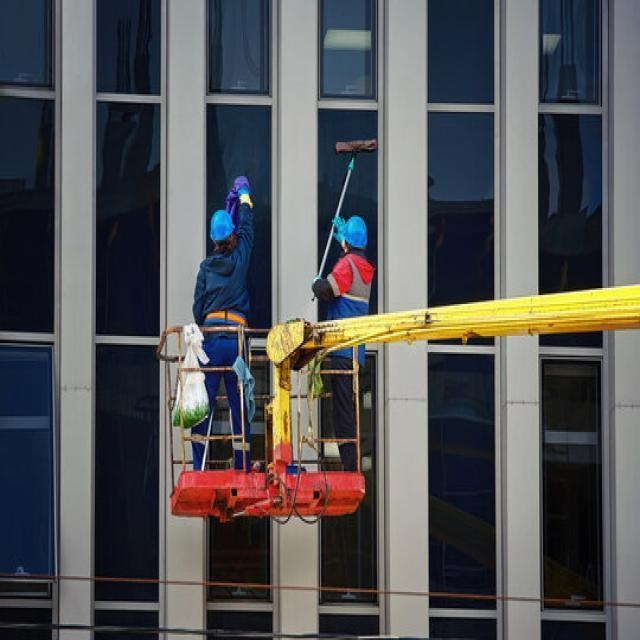Arnes_seguridad: (203, 310, 245, 326)
